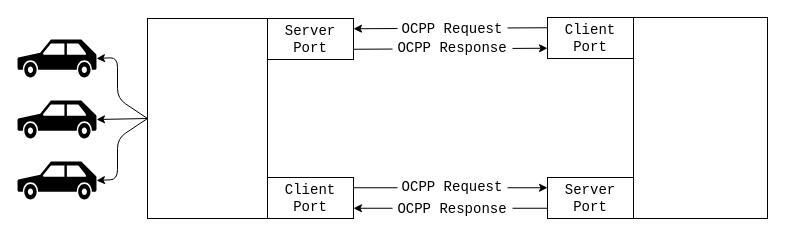
This 785x237 diagram has some shape labels left out. Here are the shapes that lost their labels. From the top down, the centre of each, then its label:
point (207, 118): Charging Station
point (700, 117): Central System
